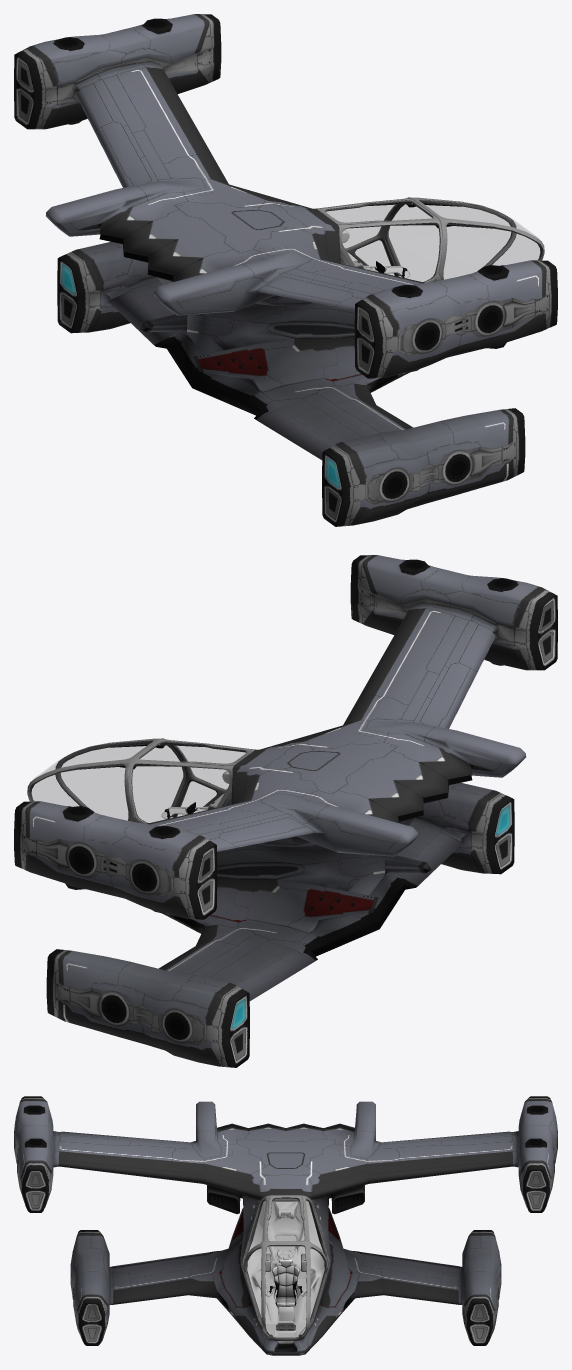
Rendered from space_shatl_16x.FBX.
3 renders of one model, top to bottom at view 1: azimuth 30°, elevation 25°; view 2: azimuth 150°, elevation 25°; view 3: azimuth 270°, elevation 25°, orthographic. The views are drawn at different scales.
Parts seen in each view (by area): view 1: space_shatl_Lc, glass_kokpit, glass_rama1, glass_rama2, glass_kokpit3; view 2: space_shatl_Lc, glass_kokpit, glass_rama1, glass_rama2, glass_kokpit3; view 3: space_shatl_Lc, salon1, glass_rama2, glass_rama1, kreslo.
Boxes of the visible parts, <box> form: space_shatl_Lc: <box>14,14,557,526</box>; glass_kokpit: <box>426,205,539,278</box>; glass_rama1: <box>315,198,442,282</box>; glass_rama2: <box>385,197,544,280</box>; glass_kokpit3: <box>327,205,394,275</box>; space_shatl_Lc: <box>14,555,557,1067</box>; glass_kokpit: <box>32,746,145,819</box>; glass_rama1: <box>129,739,256,823</box>; glass_rama2: <box>27,738,186,821</box>; glass_kokpit3: <box>177,746,244,816</box>; space_shatl_Lc: <box>14,1096,557,1355</box>; salon1: <box>247,1198,324,1337</box>; glass_rama2: <box>243,1242,328,1340</box>; glass_rama1: <box>242,1195,329,1299</box>; kreslo: <box>265,1253,306,1330</box>.
Size of the model in its own units: 43.78 by 24.7 by 64.87.
